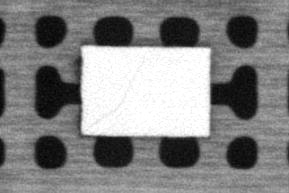DIE_CRACK: (86, 81, 132, 128)
